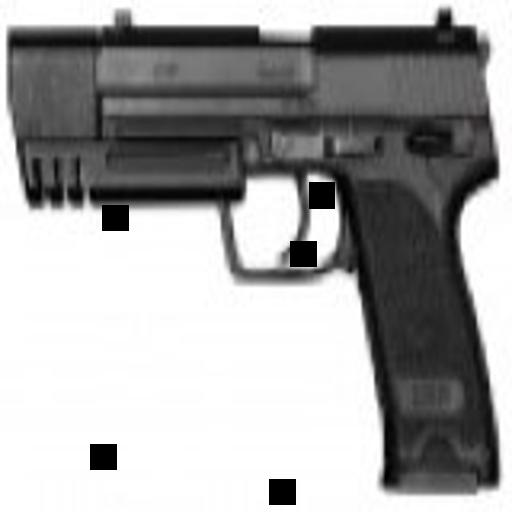Handgun: (8, 3, 504, 489)
